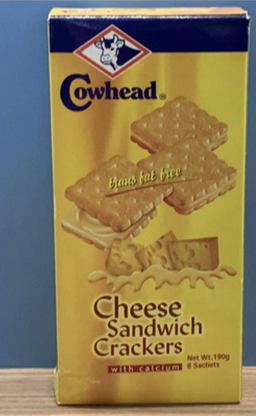crackers_150g: (64, 35, 232, 381)
